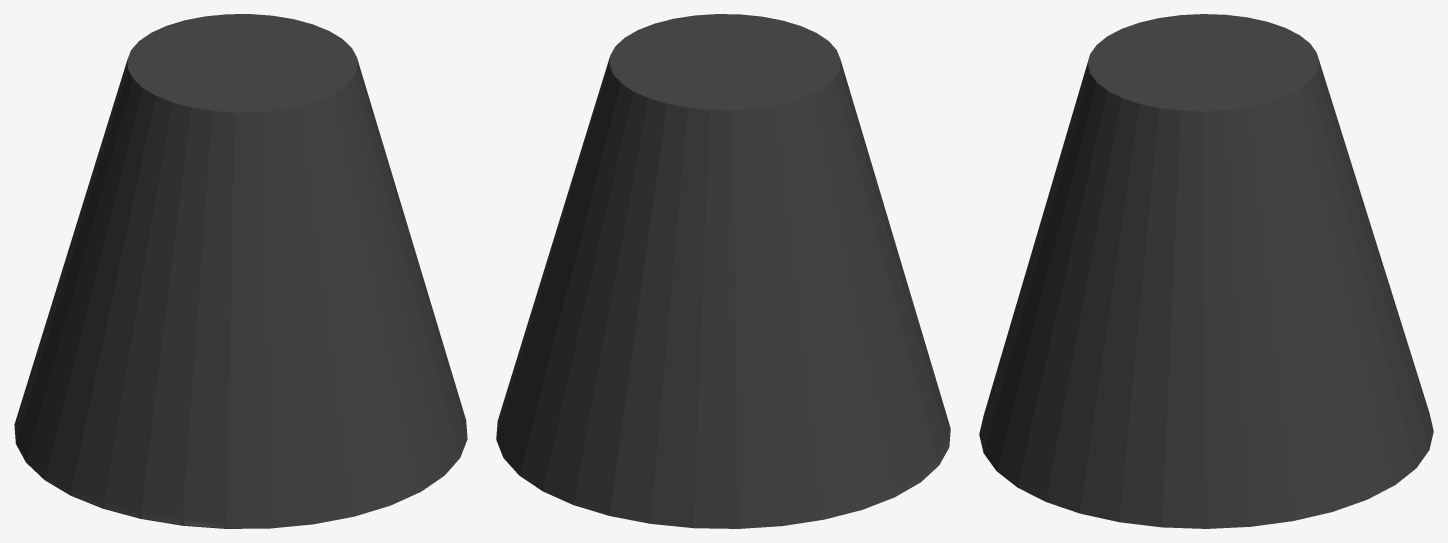
Rendered from jet.obj.
3 renders of one model, left to right at view 1: azimuth 30°, elevation 25°; view 2: azimuth 150°, elevation 25°; view 3: azimuth 270°, elevation 25°, orthographic.
Visible parts, largest first — view 1: Cube.001; view 2: Cube.001; view 3: Cube.001.
Part boxes in pixels (<box>): Cube.001: <box>14,14,467,528</box>; Cube.001: <box>496,14,950,528</box>; Cube.001: <box>979,14,1433,528</box>.
Size of the model in its own units: 0.3659 by 0.3307 by 0.3658.
